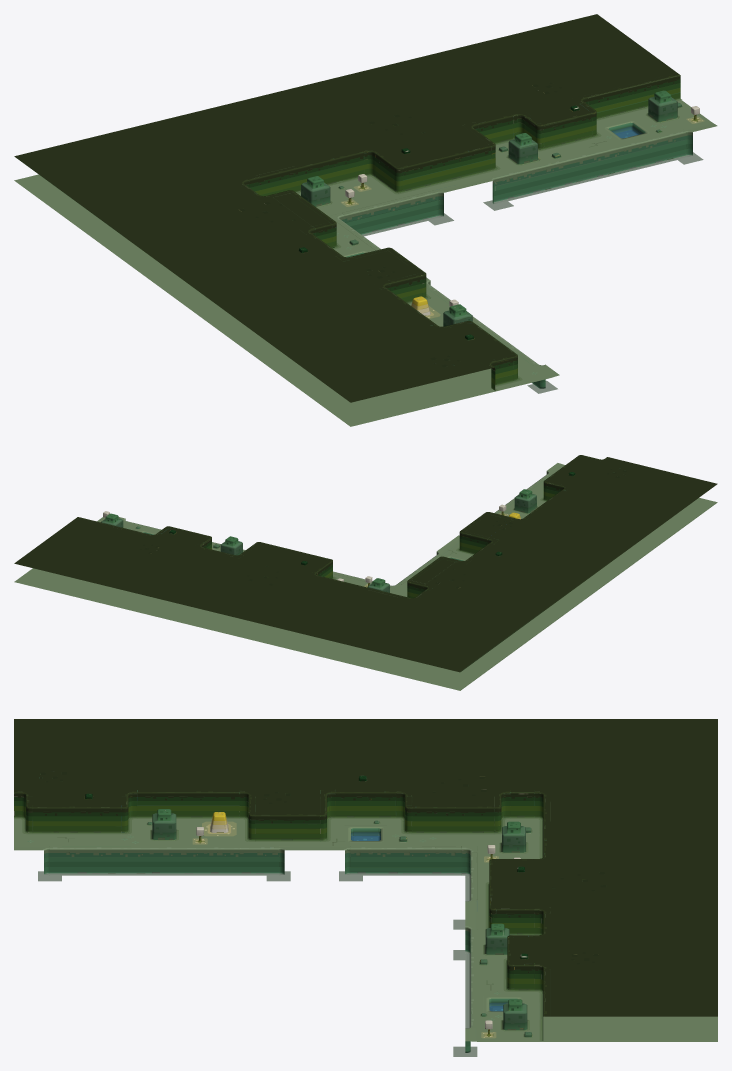
File: C_cave2_out_RD.fbx
3 renders of one model, top to bottom at view 1: azimuth 30°, elevation 25°; view 2: azimuth 150°, elevation 25°; view 3: azimuth 270°, elevation 25°, orthographic. The views are drawn at different scales.
Visible parts, largest first — view 1: C_cave2_out_RD.001; view 2: C_cave2_out_RD.001; view 3: C_cave2_out_RD.001.
Boxes of the visible parts, bbox=[...] form: C_cave2_out_RD.001: bbox=[14, 14, 717, 426]; C_cave2_out_RD.001: bbox=[14, 455, 717, 690]; C_cave2_out_RD.001: bbox=[14, 719, 717, 1056].
Bounding box in the file's own units: 117 × 9.82 × 117.
